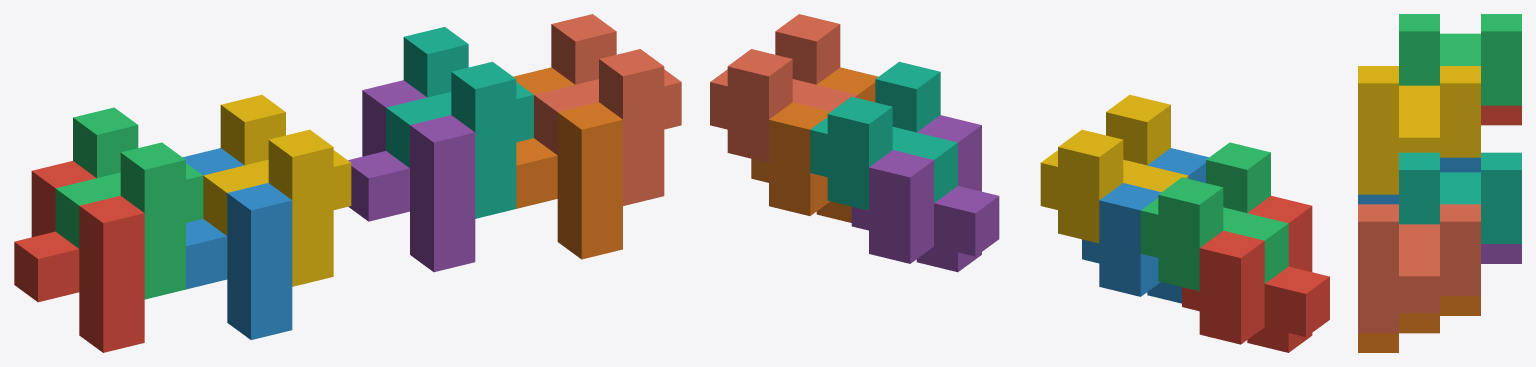
Rendered from tiling.obj.
The picture shows the model from 3 angles, left to right: view 1: azimuth 30°, elevation 25°; view 2: azimuth 150°, elevation 25°; view 3: azimuth 270°, elevation 25°; orthographic projection. The views are drawn at different scales.
Parts seen in each view (by area): view 1: copy_1_domain_1, copy_1_domain_5, copy_1_domain_4, copy_1_domain_3, copy_1_domain_8, copy_1_domain_7, copy_1_domain_6, copy_1_domain_2; view 2: copy_1_domain_1, copy_1_domain_5, copy_1_domain_3, copy_1_domain_7, copy_1_domain_8, copy_1_domain_4, copy_1_domain_6, copy_1_domain_2; view 3: copy_1_domain_8, copy_1_domain_4, copy_1_domain_7, copy_1_domain_3, copy_1_domain_6, copy_1_domain_2, copy_1_domain_1, copy_1_domain_5.
Boxes of the visible parts, box(x1,y1,x2,y2) form: copy_1_domain_1: box(14, 161, 144, 352); copy_1_domain_5: box(348, 80, 475, 272); copy_1_domain_4: box(203, 94, 351, 286); copy_1_domain_3: box(55, 107, 203, 299); copy_1_domain_8: box(534, 14, 681, 205); copy_1_domain_7: box(386, 27, 533, 218); copy_1_domain_6: box(513, 67, 622, 259); copy_1_domain_2: box(183, 148, 292, 339); copy_1_domain_1: box(1182, 195, 1329, 352); copy_1_domain_5: box(851, 115, 999, 272); copy_1_domain_3: box(1140, 142, 1288, 291); copy_1_domain_7: box(810, 61, 957, 210); copy_1_domain_8: box(710, 14, 857, 162); copy_1_domain_4: box(1040, 94, 1188, 243); copy_1_domain_6: box(751, 67, 878, 222); copy_1_domain_2: box(1082, 148, 1208, 303); copy_1_domain_8: box(1358, 204, 1480, 333); copy_1_domain_4: box(1358, 66, 1480, 194); copy_1_domain_7: box(1399, 152, 1521, 243); copy_1_domain_3: box(1399, 14, 1521, 105); copy_1_domain_6: box(1358, 296, 1480, 352); copy_1_domain_2: box(1358, 157, 1480, 204); copy_1_domain_1: box(1481, 105, 1521, 125); copy_1_domain_5: box(1481, 244, 1521, 263).
Bounding box in the file's own units: 15 × 4 × 4.
